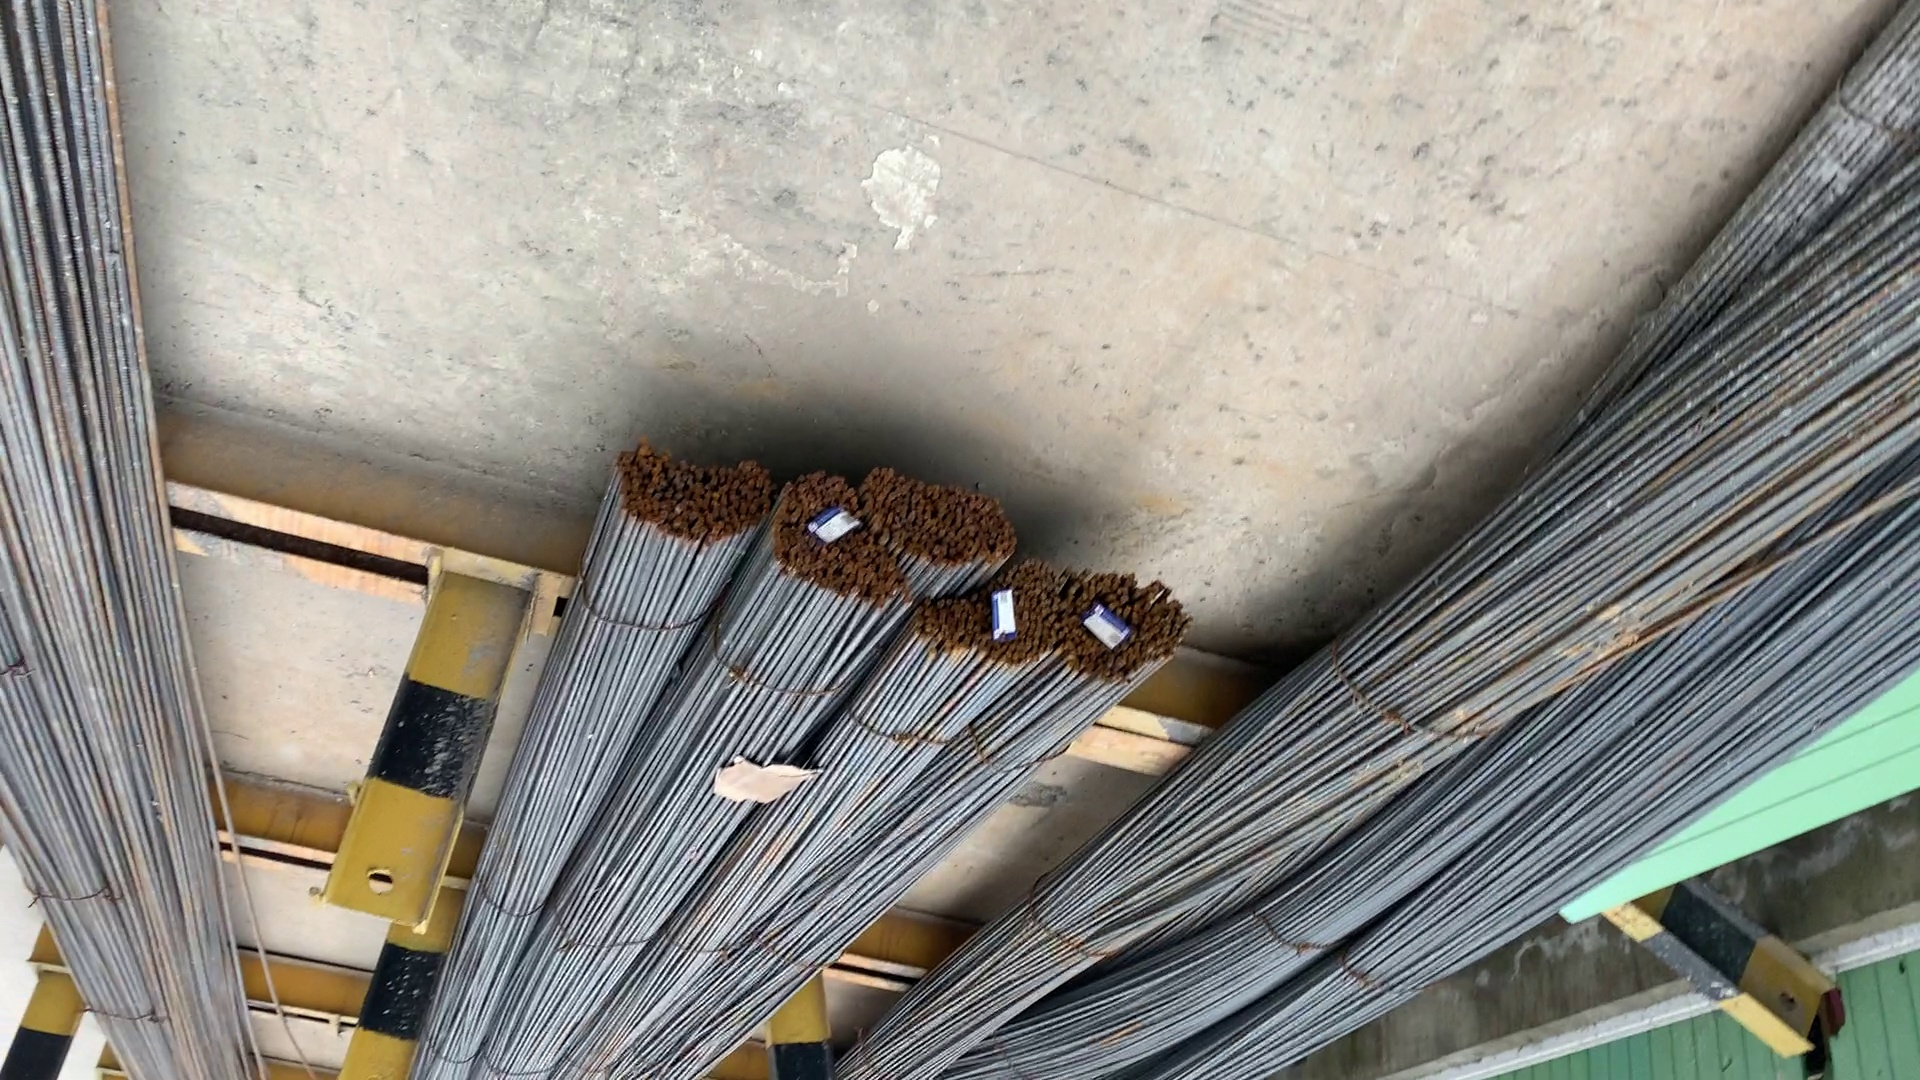rebar: (603, 439, 766, 549), (870, 469, 1015, 576), (775, 484, 887, 607), (1062, 579, 1184, 680), (928, 585, 1062, 673)
